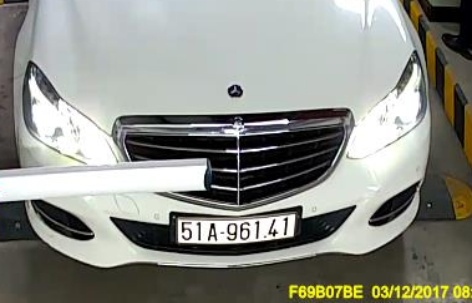plate: (169, 201, 302, 246)
